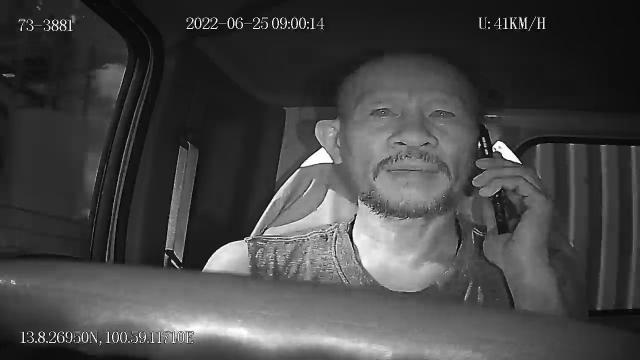PhoneUse: (476, 125, 510, 235)
SafeDriving: (363, 96, 404, 126), (421, 97, 462, 126)
